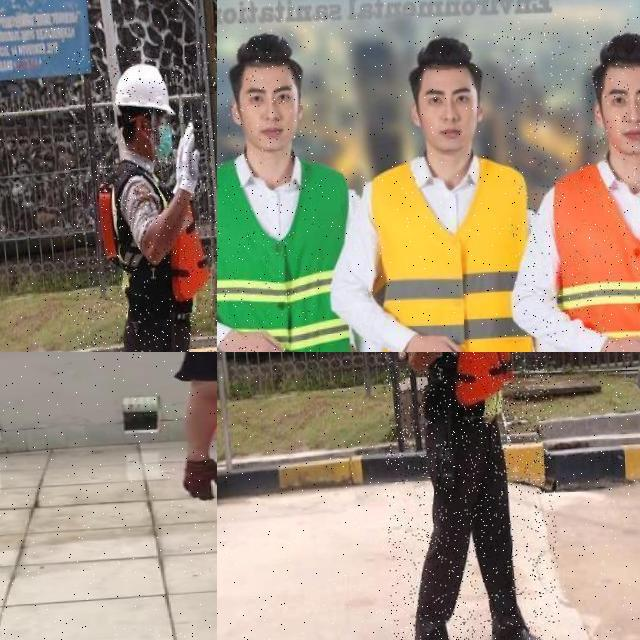boots: (487, 615, 552, 640)
helmet: (112, 62, 178, 124)
vest: (363, 155, 536, 352), (217, 151, 351, 352), (96, 158, 212, 322), (555, 153, 640, 352), (396, 352, 521, 419)
